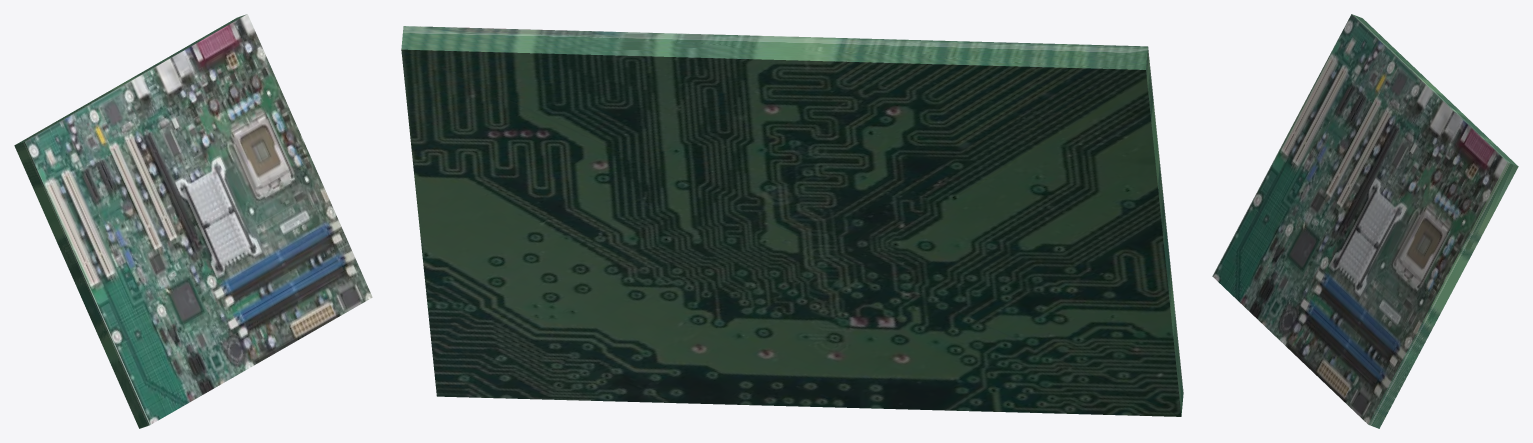
The model's file is motherboard.glb.
The picture shows the model from 3 angles, left to right: view 1: azimuth 30°, elevation 25°; view 2: azimuth 150°, elevation 25°; view 3: azimuth 270°, elevation 25°; orthographic projection. The views are drawn at different scales.
Parts seen in each view (by area): view 1: Object_5; view 2: Object_5; view 3: Object_5.
Part boxes in pixels (x1=…): Object_5: x1=14, y1=14, x2=372, y2=428; Object_5: x1=401, y1=26, x2=1183, y2=416; Object_5: x1=1212, y1=14, x2=1518, y2=428.
Bounding box in the file's own units: 0.2988 × 0.202 × 0.2259.
Materials: 1 (1 with a texture image).
